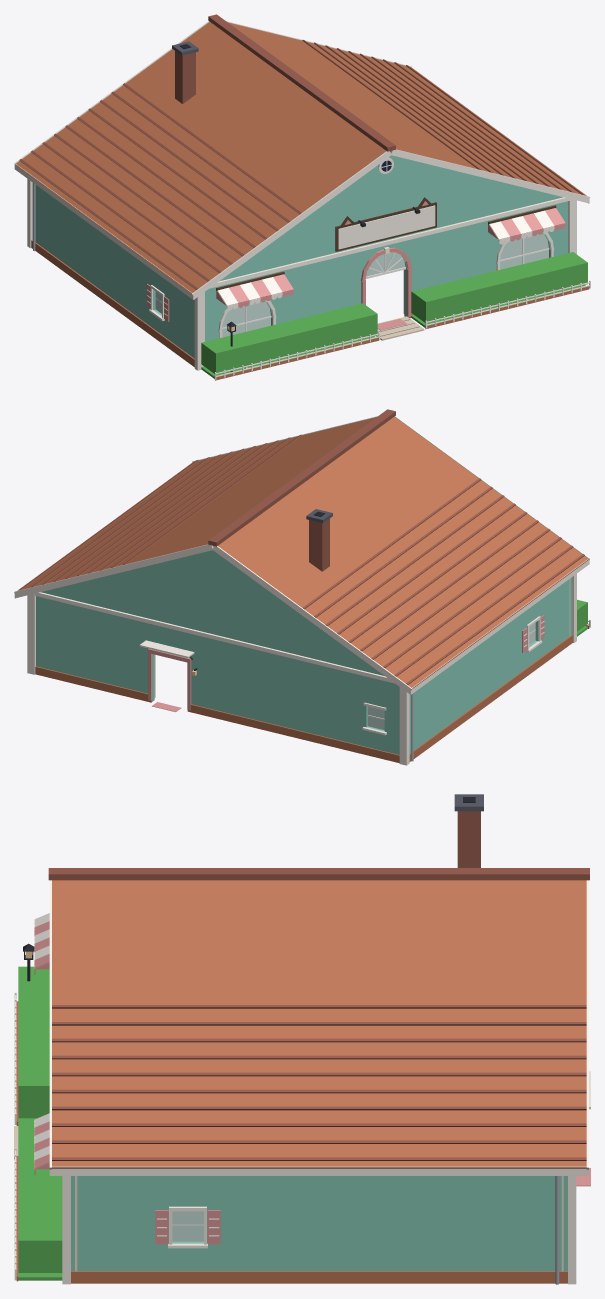
Rendered from CatCafe_Plot_Cafe_Mint_60x46.glb.
The picture shows the model from 3 angles, top to bottom: view 1: azimuth 30°, elevation 25°; view 2: azimuth 150°, elevation 25°; view 3: azimuth 270°, elevation 25°; orthographic projection. The views are drawn at different scales.
Visible parts, largest first — view 1: CatCafe_Plot_Cafe_Mint_60x46_Roof, CatCafe_Plot_Cafe_Mint_60x46_Paint, CatCafe_Plot_Cafe_Mint_60x46_Fireflies, CatCafe_Plot_Cafe_Mint_60x46_Trim, CatCafe_Plot_Cafe_Mint_60x46_Roof_Trim, CatCafe_Plot_Cafe_Mint_60x46_Awning, CatCafe_Plot_Cafe_Mint_60x46, CatCafe_Plot_Cafe_Mint_60x46_Glass, CatCafe_Plot_Cafe_Mint_60x46_Garden, CatCafe_Plot_Cafe_Mint_60x46_SignBoard, CatCafe_Plot_Cafe_Mint_60x46_Flowers, CatCafe_Plot_Cafe_Mint_60x46_Path; view 2: CatCafe_Plot_Cafe_Mint_60x46_Roof, CatCafe_Plot_Cafe_Mint_60x46_Paint, CatCafe_Plot_Cafe_Mint_60x46_Trim, CatCafe_Plot_Cafe_Mint_60x46_Roof_Trim, CatCafe_Plot_Cafe_Mint_60x46; view 3: CatCafe_Plot_Cafe_Mint_60x46_Roof, CatCafe_Plot_Cafe_Mint_60x46_Paint, CatCafe_Plot_Cafe_Mint_60x46_Fireflies, CatCafe_Plot_Cafe_Mint_60x46, CatCafe_Plot_Cafe_Mint_60x46_Roof_Trim, CatCafe_Plot_Cafe_Mint_60x46_Trim, CatCafe_Plot_Cafe_Mint_60x46_Awning, CatCafe_Plot_Cafe_Mint_60x46_Garden, CatCafe_Plot_Cafe_Mint_60x46_Glass.
Part boxes in pixels (x1,y1,x2,y2): CatCafe_Plot_Cafe_Mint_60x46_Roof: [15, 14, 586, 293]; CatCafe_Plot_Cafe_Mint_60x46_Paint: [32, 155, 568, 358]; CatCafe_Plot_Cafe_Mint_60x46_Fireflies: [201, 252, 587, 374]; CatCafe_Plot_Cafe_Mint_60x46_Trim: [27, 157, 576, 370]; CatCafe_Plot_Cafe_Mint_60x46_Roof_Trim: [14, 21, 590, 299]; CatCafe_Plot_Cafe_Mint_60x46_Awning: [216, 208, 565, 310]; CatCafe_Plot_Cafe_Mint_60x46: [31, 160, 549, 366]; CatCafe_Plot_Cafe_Mint_60x46_Glass: [155, 233, 548, 337]; CatCafe_Plot_Cafe_Mint_60x46_Garden: [214, 280, 590, 380]; CatCafe_Plot_Cafe_Mint_60x46_SignBoard: [338, 205, 435, 249]; CatCafe_Plot_Cafe_Mint_60x46_Flowers: [201, 285, 585, 378]; CatCafe_Plot_Cafe_Mint_60x46_Path: [376, 316, 424, 340]; CatCafe_Plot_Cafe_Mint_60x46_Roof: [17, 409, 588, 688]; CatCafe_Plot_Cafe_Mint_60x46_Paint: [36, 550, 571, 754]; CatCafe_Plot_Cafe_Mint_60x46_Trim: [27, 573, 576, 765]; CatCafe_Plot_Cafe_Mint_60x46_Roof_Trim: [14, 416, 589, 694]; CatCafe_Plot_Cafe_Mint_60x46: [35, 615, 572, 763]; CatCafe_Plot_Cafe_Mint_60x46_Roof: [48, 794, 589, 1168]; CatCafe_Plot_Cafe_Mint_60x46_Paint: [71, 1176, 567, 1271]; CatCafe_Plot_Cafe_Mint_60x46_Fireflies: [18, 966, 62, 1272]; CatCafe_Plot_Cafe_Mint_60x46: [71, 1168, 590, 1284]; CatCafe_Plot_Cafe_Mint_60x46_Roof_Trim: [49, 880, 588, 1175]; CatCafe_Plot_Cafe_Mint_60x46_Trim: [62, 1071, 590, 1284]; CatCafe_Plot_Cafe_Mint_60x46_Awning: [34, 913, 49, 1174]; CatCafe_Plot_Cafe_Mint_60x46_Garden: [14, 943, 34, 1281]; CatCafe_Plot_Cafe_Mint_60x46_Glass: [172, 1211, 203, 1241].
Bounding box in the file's own units: 65.86 × 31 × 54.8.
Materials: 1 (1 with a texture image).
